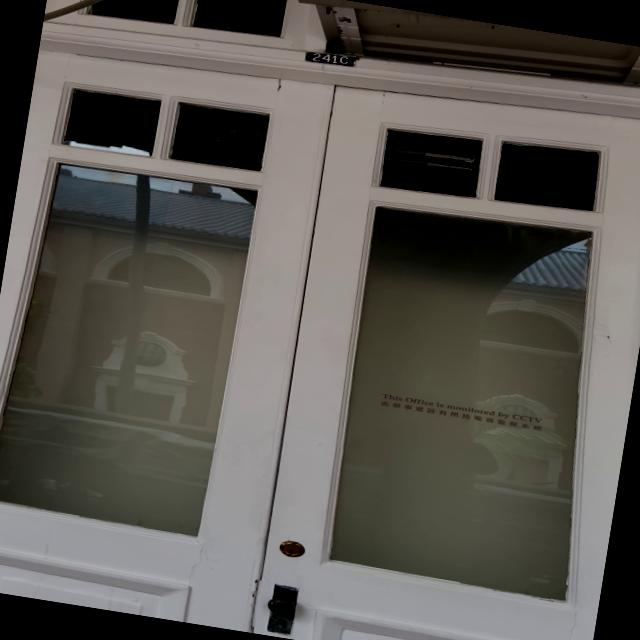room241c: (302, 46, 362, 72)
